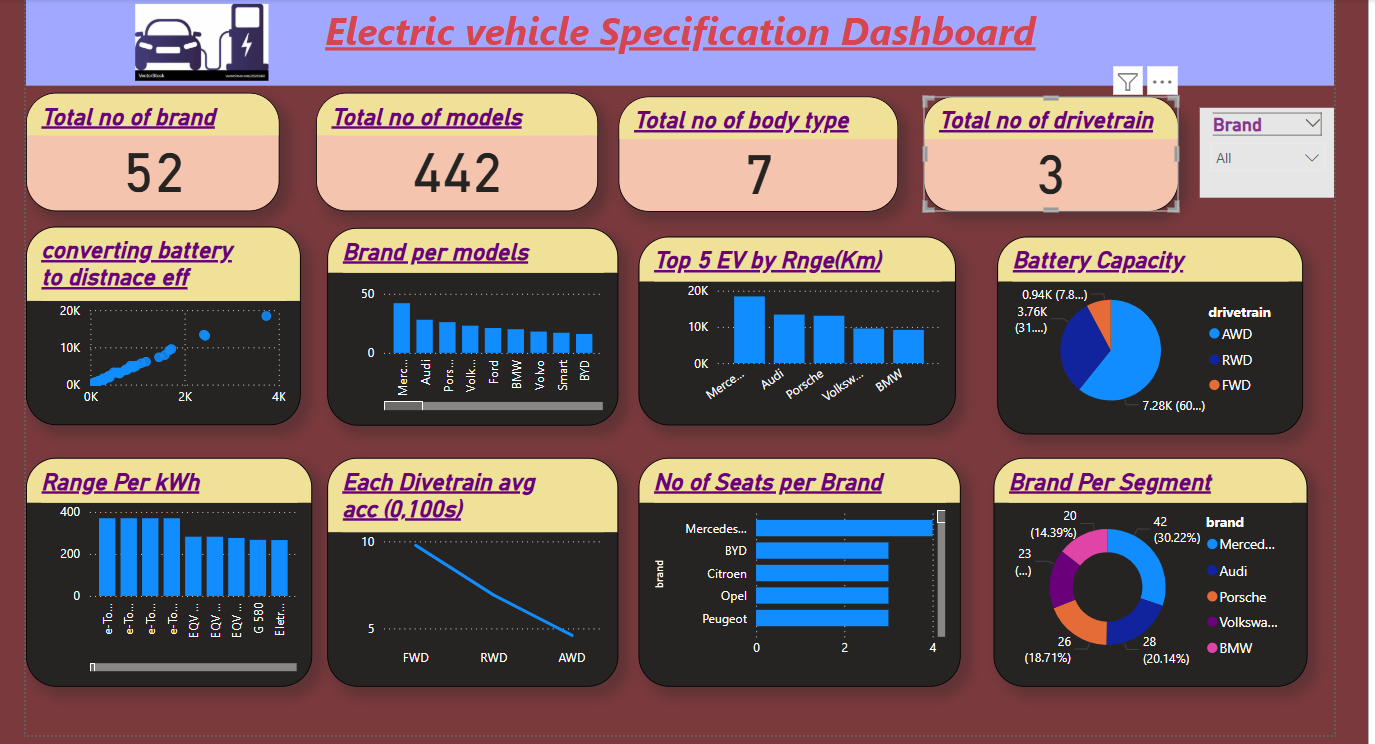

The dashboard page shown, as its layout file describes it:
{"tool":"powerbi","page":{"name":"Page 1","canvas":[1280,720],"ordinal":0},"visuals":[{"type":"card","title":"Total no of brand","fields":{"Values":["Count(electric_vehicles_spec_2025 csv.brand)"]},"box":[15.1,94.7,248.4,129],"z":0},{"type":"textbox","box":[0,0,1280.3,85.1],"z":1},{"type":"card","title":"Total no of models","fields":{"Values":["Count(electric_vehicles_spec_2025 csv.model)"]},"box":[284,91.9,296.4,131.7],"z":2},{"type":"card","title":"Total no of body type","fields":{"Values":["Count(electric_vehicles_spec_2025 csv.car_body_type)"]},"box":[639.5,94.7,293.7,122.1],"z":3},{"type":"card","title":"Total no of drivetrain","fields":{"Values":["Count(electric_vehicles_spec_2025 csv.drivetrain)"]},"box":[988,95,285,119],"z":4},{"type":"slicer","fields":{"Values":["electric_vehicles_spec_2025 csv.brand"]},"box":[1000.3,0,279.9,85.1],"z":5},{"type":"scatterChart","title":"  converting battery to  distnace eff","fields":{"Y":["Sum(electric_vehicles_spec_2025 csv.range_km)"],"X":["Sum(electric_vehicles_spec_2025 csv.battery_capacity_kWh)"],"Category":["electric_vehicles_spec_2025 csv.brand"]},"box":[0,250.7,381.5,214],"z":6},{"type":"clusteredColumnChart","title":"Brand per models ","fields":{"Category":["electric_vehicles_spec_2025 csv.brand"],"Y":["CountNonNull(electric_vehicles_spec_2025 csv.model)"]},"box":[413.3,250.7,406,214],"z":7},{"type":"clusteredColumnChart","title":"Top 5 EV by Rnge(Km)","fields":{"Category":["electric_vehicles_spec_2025 csv.brand"],"Y":["Sum(electric_vehicles_spec_2025 csv.range_km)"]},"box":[847.4,247,385.2,217.7],"z":8},{"type":"barChart","title":"No of Seats per Brand","fields":{"Category":["electric_vehicles_spec_2025 csv.brand"],"Y":["Count(electric_vehicles_spec_2025 csv.seats)"]},"box":[0,485.8,403.4,214.1],"z":9},{"type":"donutChart","title":"Brand Per Segment","fields":{"Category":["electric_vehicles_spec_2025 csv.brand"],"Y":["CountNonNull(electric_vehicles_spec_2025 csv.segment)"]},"box":[433.6,481.6,385.6,218.2],"z":10},{"type":"pieChart","title":"Battery Capacity","fields":{"Category":["electric_vehicles_spec_2025 csv.drivetrain"],"Y":["Sum(electric_vehicles_spec_2025 csv.battery_capacity_kWh)"]},"box":[863.1,485.8,385.6,218.2],"z":11}]}

Visuals, with their boxes on the page's 1280x720 design canvas (x1, y1, x2, y2). These are canvas units, not pixel positions in the 1375x744 screenshot, which may show the page scaled, cropped or inside an application window:
"Total no of brand" card: bbox(15, 95, 264, 224)
textbox: bbox(0, 0, 1280, 85)
"Total no of models" card: bbox(284, 92, 580, 224)
"Total no of body type" card: bbox(640, 95, 933, 217)
"Total no of drivetrain" card: bbox(988, 95, 1273, 214)
slicer - electric_vehicles_spec_2025 csv.brand: bbox(1000, 0, 1280, 85)
"  converting battery to  distnace eff" scatterChart: bbox(0, 251, 382, 465)
"Brand per models " clusteredColumnChart: bbox(413, 251, 819, 465)
"Top 5 EV by Rnge(Km)" clusteredColumnChart: bbox(847, 247, 1233, 465)
"No of Seats per Brand" barChart: bbox(0, 486, 403, 700)
"Brand Per Segment" donutChart: bbox(434, 482, 819, 700)
"Battery Capacity" pieChart: bbox(863, 486, 1249, 704)
